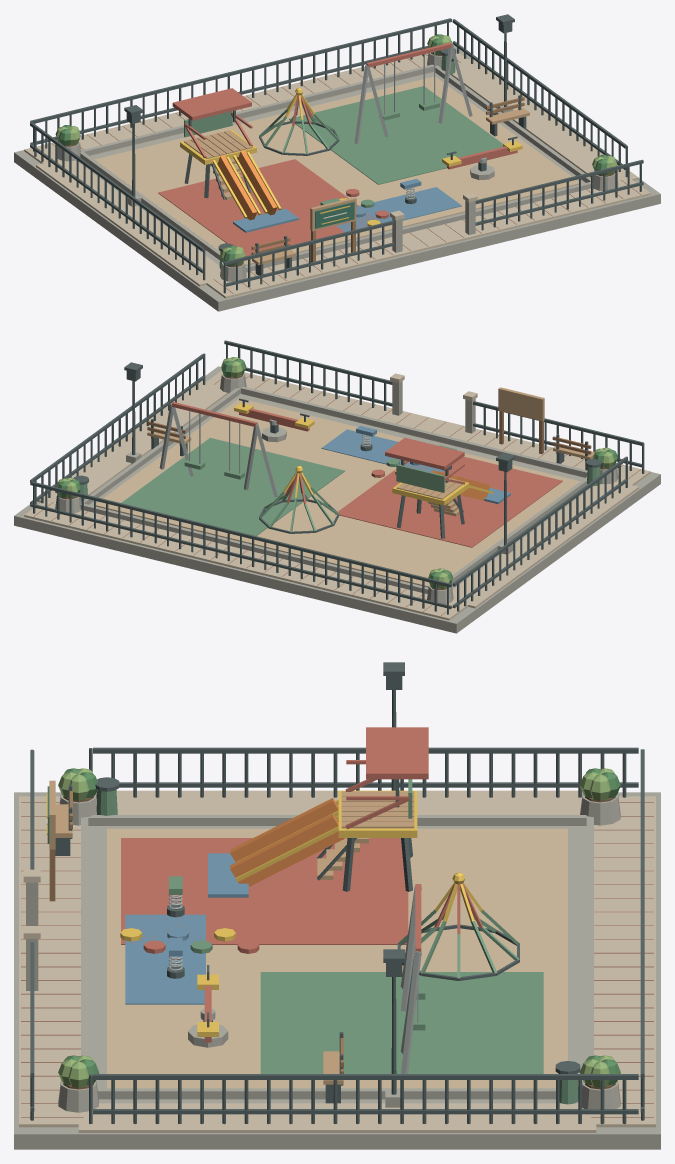
File: playground.fbx
The picture shows the model from 3 angles, top to bottom: view 1: azimuth 30°, elevation 25°; view 2: azimuth 150°, elevation 25°; view 3: azimuth 270°, elevation 25°; orthographic projection. The views are drawn at different scales.
Parts seen in each view (by area): view 1: Main safety rubber surface, Green safety zone, Playground foundation, Terracotta safety zone, Sandstone perimeter walkway, Sandstone perimeter walkway.001, End perimeter walkway, End perimeter walkway.001, Rubber surface kerb.001, Blue activity strip, Rear fence top rail, Rubber surface kerb (+21 smaller); view 2: Main safety rubber surface, Playground foundation, Green safety zone, Terracotta safety zone, Sandstone perimeter walkway.001, Sandstone perimeter walkway, End perimeter walkway, End perimeter walkway.001, Rubber surface kerb, Rubber surface kerb.001, Rear fence top rail, Rear fence lower rail (+16 smaller); view 3: Main safety rubber surface, Playground foundation, Green safety zone, Terracotta safety zone, Sandstone perimeter walkway.001, Sandstone perimeter walkway, End perimeter walkway.001, End perimeter walkway, Blue activity strip, Rubber surface kerb.003, Rubber surface kerb.002, Side fence top rail (+16 smaller).
Boxes of the visible parts, <box> form: Main safety rubber surface: <box>94,76,578,265</box>; Green safety zone: <box>289,86,502,184</box>; Playground foundation: <box>14,45,660,311</box>; Terracotta safety zone: <box>158,159,381,256</box>; Sandstone perimeter walkway: <box>205,179,650,298</box>; Sandstone perimeter walkway.001: <box>24,51,469,163</box>; End perimeter walkway: <box>36,159,221,286</box>; End perimeter walkway.001: <box>450,59,638,182</box>; Rubber surface kerb.001: <box>81,64,433,155</box>; Blue activity strip: <box>336,187,461,231</box>; Rear fence top rail: <box>30,18,451,123</box>; Rubber surface kerb: <box>245,181,593,272</box>; Main safety rubber surface: <box>96,398,580,587</box>; Playground foundation: <box>14,366,660,633</box>; Green safety zone: <box>121,437,344,535</box>; Terracotta safety zone: <box>335,456,562,547</box>; Sandstone perimeter walkway.001: <box>24,500,469,620</box>; Sandstone perimeter walkway: <box>206,370,650,486</box>; End perimeter walkway: <box>452,481,638,608</box>; End perimeter walkway.001: <box>37,380,227,502</box>; Rubber surface kerb: <box>240,386,587,477</box>; Rubber surface kerb.001: <box>80,503,428,593</box>; Rear fence top rail: <box>30,481,451,587</box>; Rear fence lower rail: <box>30,503,451,608</box>; Main safety rubber surface: <box>107,828,567,1088</box>; Playground foundation: <box>14,792,660,1149</box>; Green safety zone: <box>260,972,543,1073</box>; Terracotta safety zone: <box>121,838,408,944</box>; Sandstone perimeter walkway.001: <box>589,796,655,1127</box>; Sandstone perimeter walkway: <box>19,796,85,1127</box>; End perimeter walkway.001: <box>78,1103,596,1132</box>; End perimeter walkway: <box>96,790,582,814</box>; Blue activity strip: <box>125,914,205,1004</box>; Rubber surface kerb.003: <box>97,1088,555,1099</box>; Rubber surface kerb.002: <box>86,815,588,825</box>; Side fence top rail: <box>93,747,638,753</box>.
Size of the model in its own units: 2000 by 459 by 1600.
